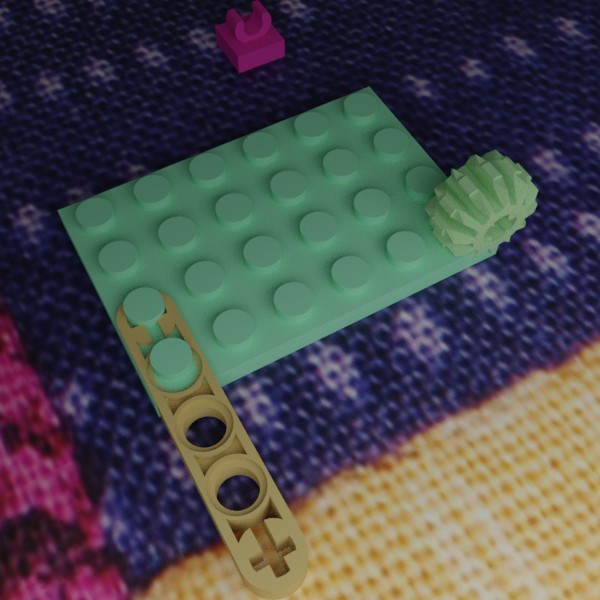lego: (57, 86, 500, 417), (116, 290, 308, 599), (424, 149, 538, 259), (214, 0, 284, 73)
